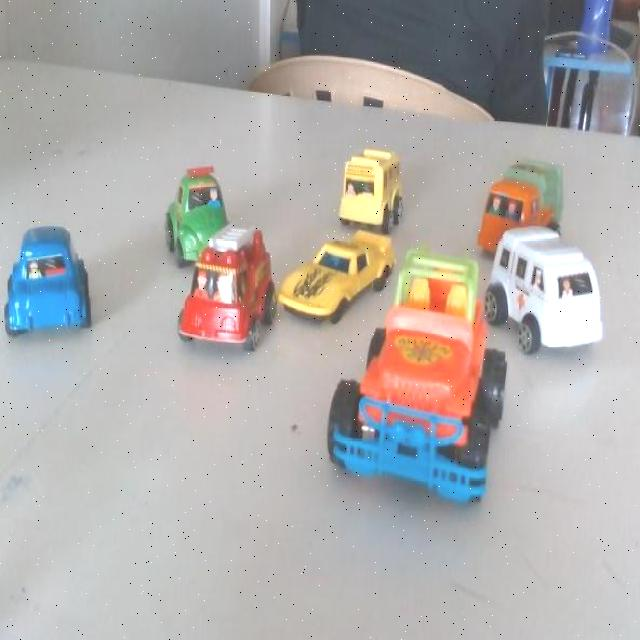car: (320, 304, 497, 524), (0, 214, 103, 361), (279, 224, 395, 337), (176, 223, 268, 362), (501, 237, 603, 348), (477, 154, 560, 254), (161, 171, 229, 264), (333, 138, 396, 227)
